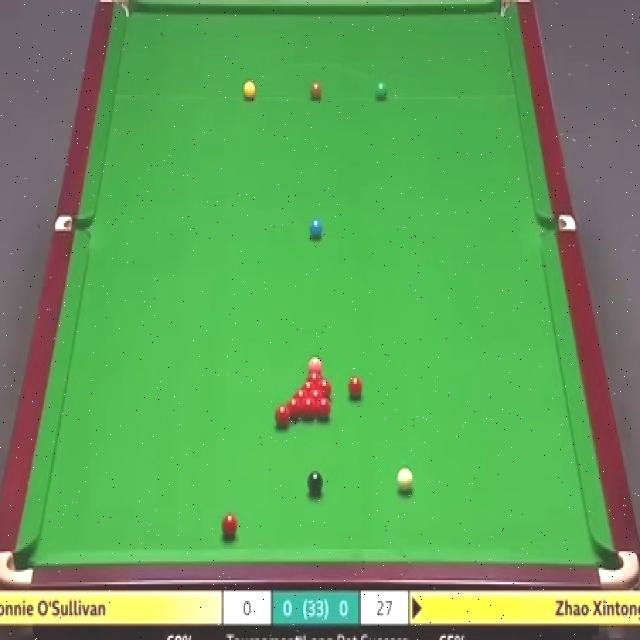black-ball: (306, 470, 324, 498)
blue-ball: (307, 218, 322, 241)
brown-ball: (310, 78, 323, 99)
green-ball: (374, 80, 387, 101)
pink-ball: (307, 354, 323, 370)
red-ball: (221, 514, 237, 542), (315, 397, 332, 422), (348, 374, 363, 402), (274, 403, 290, 428), (302, 397, 315, 419), (287, 398, 301, 418), (317, 380, 332, 398), (306, 369, 323, 382), (292, 390, 310, 400), (308, 388, 325, 398), (300, 380, 317, 390)
white-ball: (396, 467, 413, 493)
yellow-ball: (243, 81, 256, 101)
